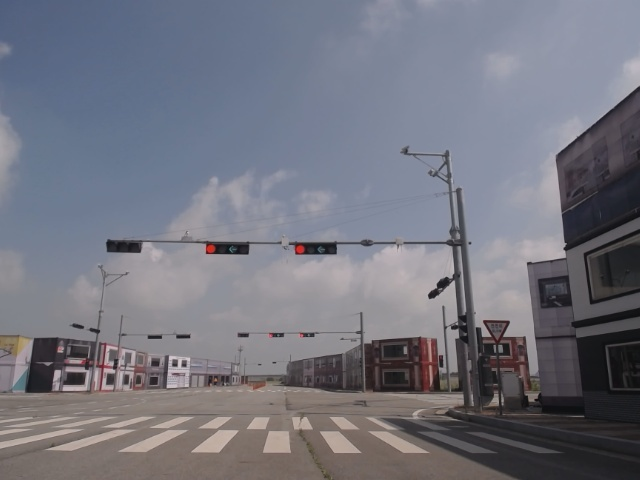left_green_4: (206, 242, 249, 255), (294, 242, 337, 255)
